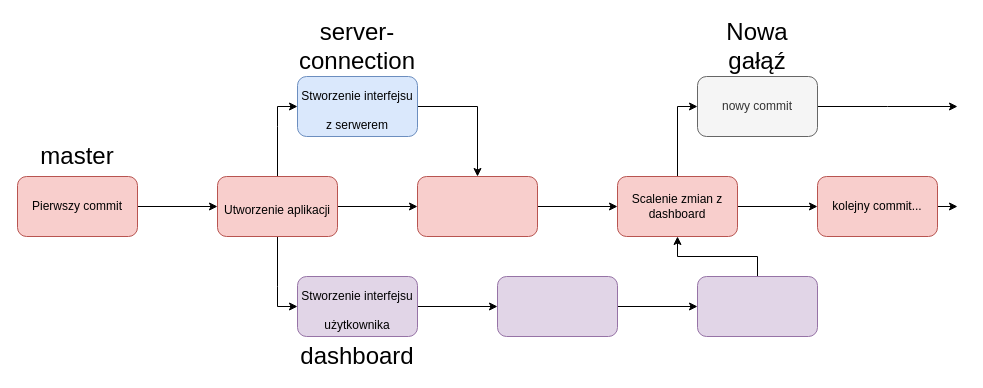
This 983x388 diagram has some shape labels left out. The centre of each missing label's shape, as x and y in pixels:
"Połączenie interfejsu z modelem danych" goes at (x=557, y=306).
"Scalenie zmian z server-connection" goes at (x=477, y=206).
"Stylizacja interfejsu użytkownika" goes at (x=757, y=306).
